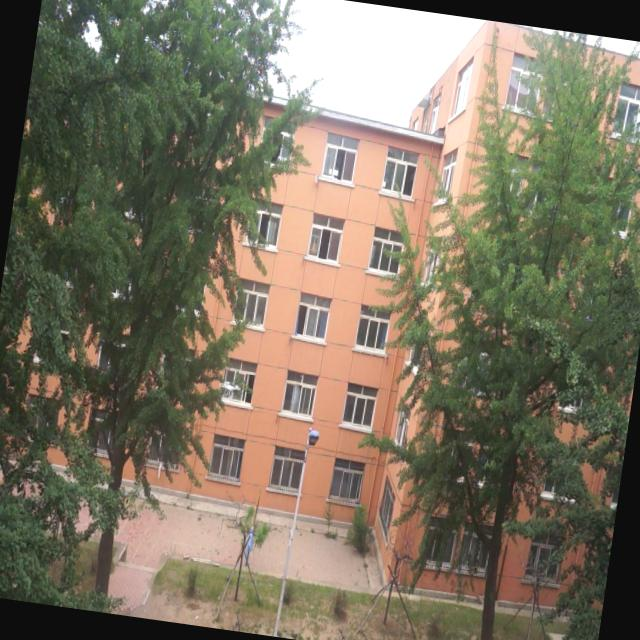drone: (218, 372, 244, 402)
